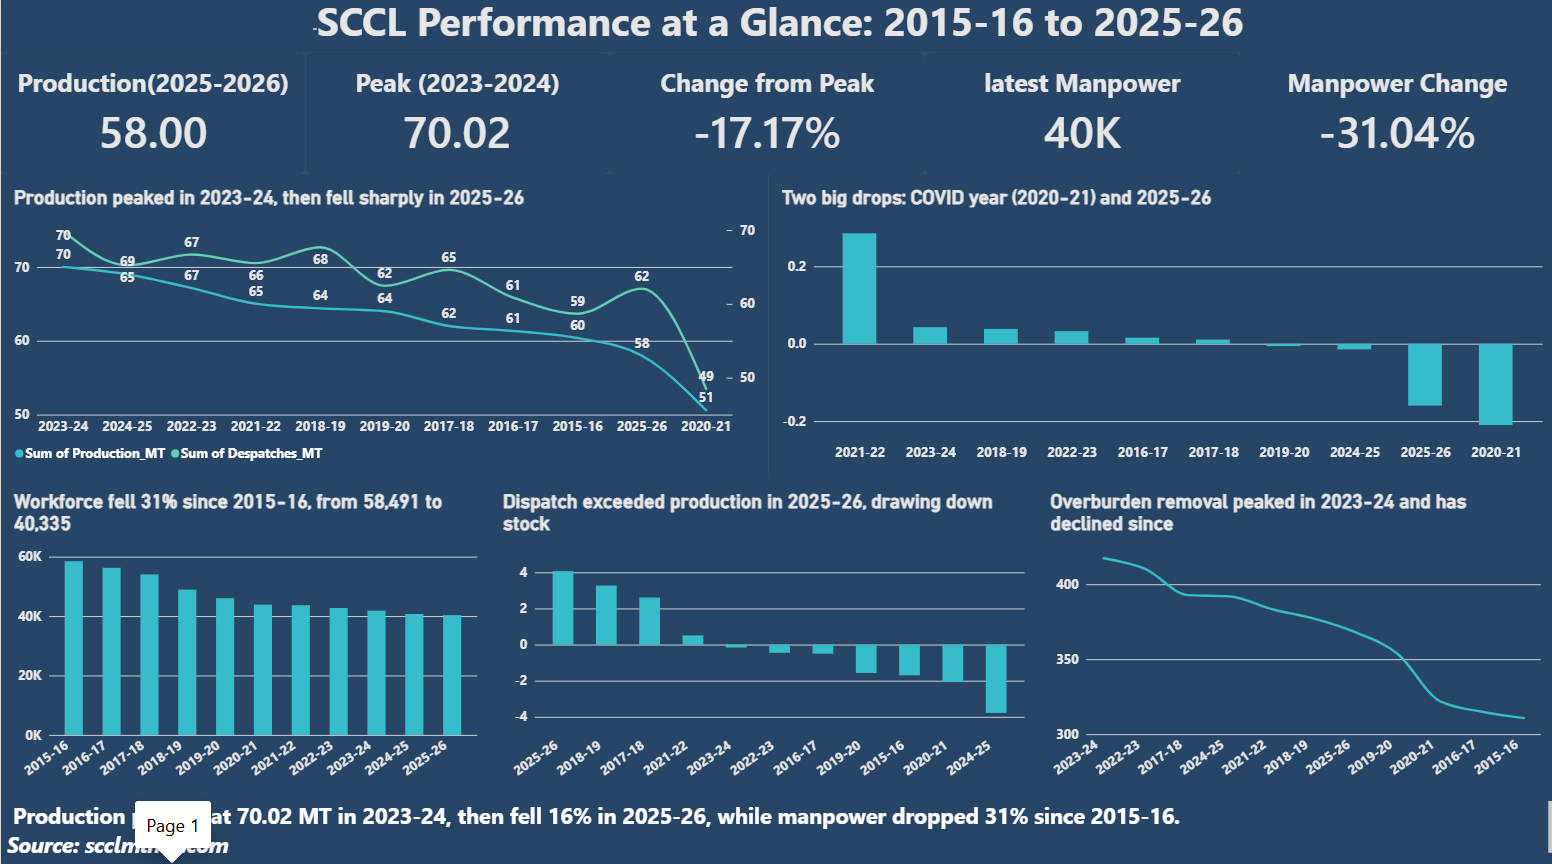

The dashboard page shown, as its layout file describes it:
{"tool":"powerbi","page":{"name":"Page 1","canvas":[1920,1080],"ordinal":0},"visuals":[{"type":"cardVisual","fields":{"Data":["sccl_annual.Latest Production"]},"box":[0,72,376.7,150.3],"z":0},{"type":"textbox","box":[0,0,1920.4,72],"z":1000},{"type":"cardVisual","fields":{"Data":["sccl_annual.Peak Production"]},"box":[376.4,72.4,376.4,150.2],"z":2000},{"type":"cardVisual","fields":{"Data":["sccl_annual.Change from Peak"]},"box":[753.3,72,389,150.3],"z":3000},{"type":"cardVisual","fields":{"Data":["sccl_annual.latest Manpower"]},"box":[1141.9,72.4,389.1,150.2],"z":4000},{"type":"cardVisual","fields":{"Data":["sccl_annual.Manpower Change"]},"box":[1531.4,72,389,150.3],"z":5000},{"type":"lineChart","title":"Production peaked in 2023-24, then fell sharply in 2025-26","fields":{"Category":["sccl_annual.Year"],"Y":["Sum(sccl_annual.Production_MT)"],"Y2":["Sum(sccl_annual.Despatches_MT)"]},"box":[0,222.6,948.3,376.4],"z":6000},{"type":"clusteredColumnChart","title":"Two big drops: COVID year (2020-21) and 2025-26","fields":{"Category":["sccl_annual.Year"],"Y":["Sum(sccl_annual.YoY_Growth)"]},"box":[948.3,222.6,971.8,376.4],"z":7000},{"type":"lineClusteredColumnComboChart","title":"Workforce fell 31% since 2015-16, from 58,491 to 40,335","fields":{"Category":["sccl_annual.Year"],"Y":["Sum(sccl_annual.Manpower)"]},"box":[0,599,604.4,399.9],"z":8000},{"type":"clusteredColumnChart","title":"Dispatch exceeded production in 2025-26, drawing down stock","fields":{"Category":["sccl_annual.Year"],"Y":["Sum(sccl_annual.Stock_Change)"]},"box":[604.4,599,676.8,399.9],"z":9000},{"type":"lineChart","title":"Overburden removal peaked in 2023-24 and has declined since","fields":{"Category":["sccl_annual.Year"],"Y":["Sum(sccl_annual.OB_Removal_MCuM)"]},"box":[1281.2,599,638,399],"z":10000},{"type":"textbox","box":[0,997.1,1920.1,83.2],"z":11000}]}

Visuals, with their boxes in screenshot pixels (x1, y1, x2, y2), scaled from the page's 1920x1080 canvas onto the 1552x864 screenshot:
cardVisual - sccl_annual.Latest Production: BBox(0, 58, 304, 178)
textbox: BBox(0, 0, 1551, 58)
cardVisual - sccl_annual.Peak Production: BBox(304, 58, 609, 178)
cardVisual - sccl_annual.Change from Peak: BBox(609, 58, 923, 178)
cardVisual - sccl_annual.latest Manpower: BBox(923, 58, 1238, 178)
cardVisual - sccl_annual.Manpower Change: BBox(1238, 58, 1551, 178)
"Production peaked in 2023-24, then fell sharply in 2025-26" lineChart: BBox(0, 178, 767, 479)
"Two big drops: COVID year (2020-21) and 2025-26" clusteredColumnChart: BBox(767, 178, 1551, 479)
"Workforce fell 31% since 2015-16, from 58,491 to 40,335" lineClusteredColumnComboChart: BBox(0, 479, 489, 799)
"Dispatch exceeded production in 2025-26, drawing down stock" clusteredColumnChart: BBox(489, 479, 1036, 799)
"Overburden removal peaked in 2023-24 and has declined since" lineChart: BBox(1036, 479, 1551, 798)
textbox: BBox(0, 798, 1551, 863)
